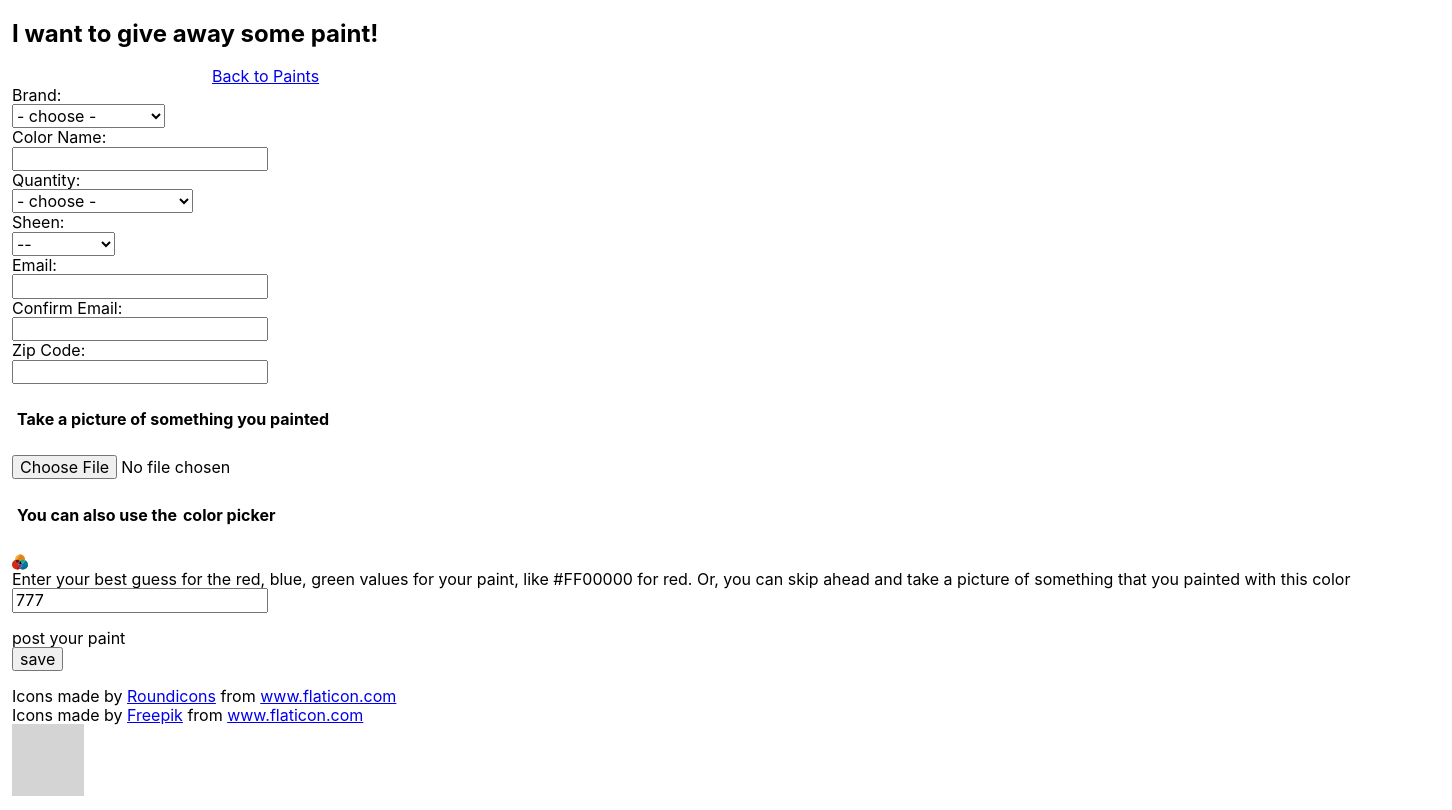
Test: GiveAwayPaint form › Error messages when a single field is missing › shows missing name Errors
Select "Behr" in the dropdown labelled "Brand:" at (88, 116), box [12,104,165,128]
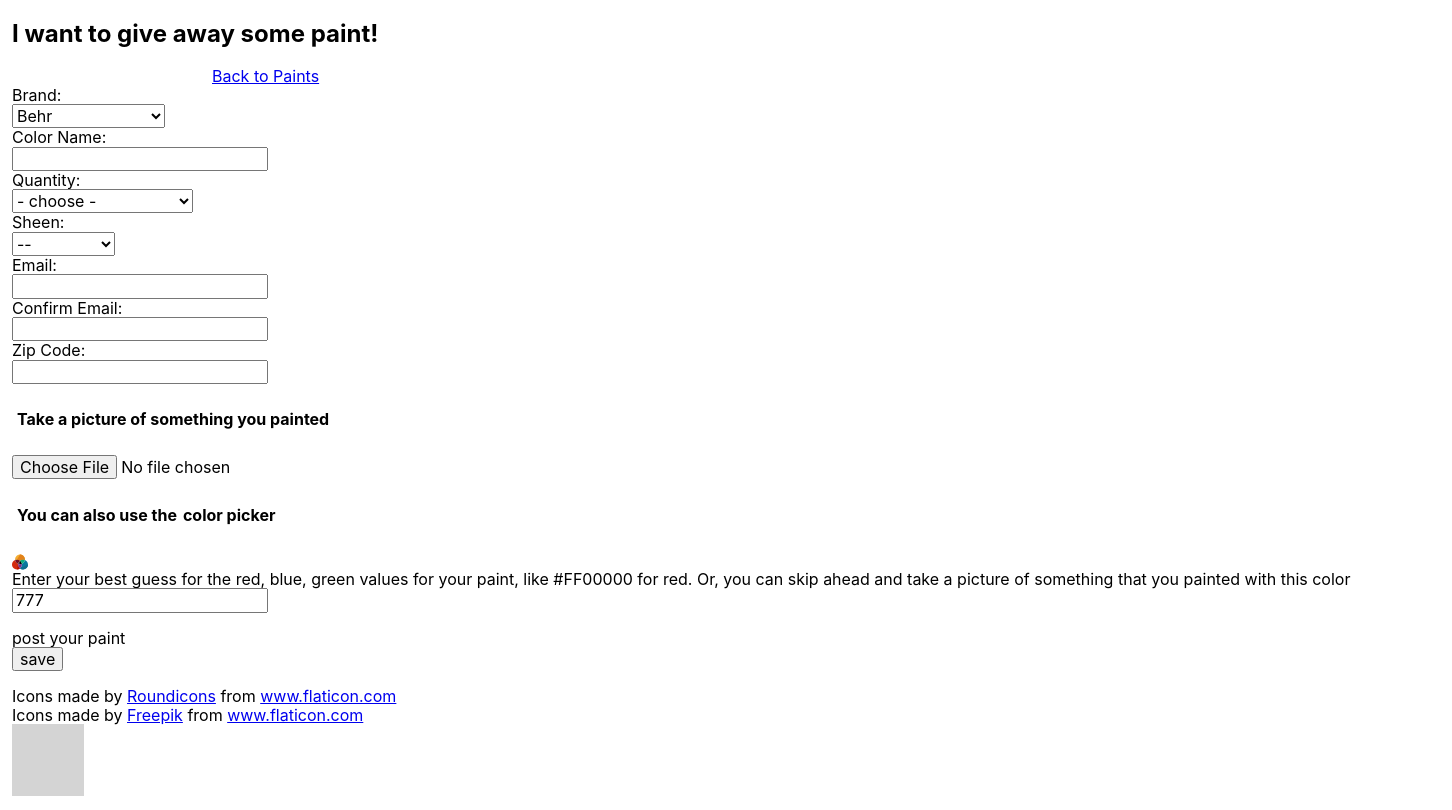
Select "less than a gallon" in the dropdown labelled "Quantity:" at (102, 201), box [12,189,193,213]
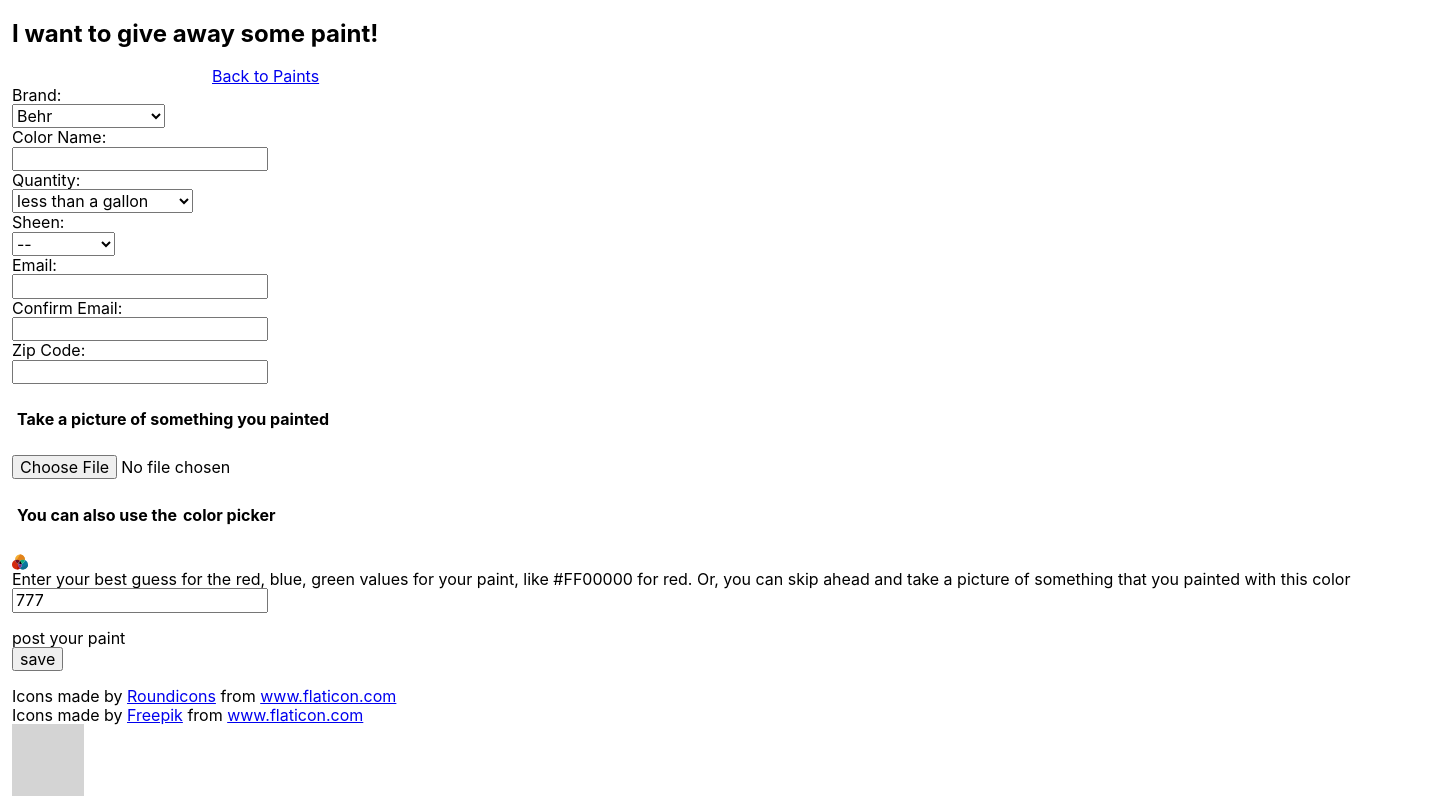
Type "someString" into the field labelled "Email:" at (140, 286), box [12,274,268,298]
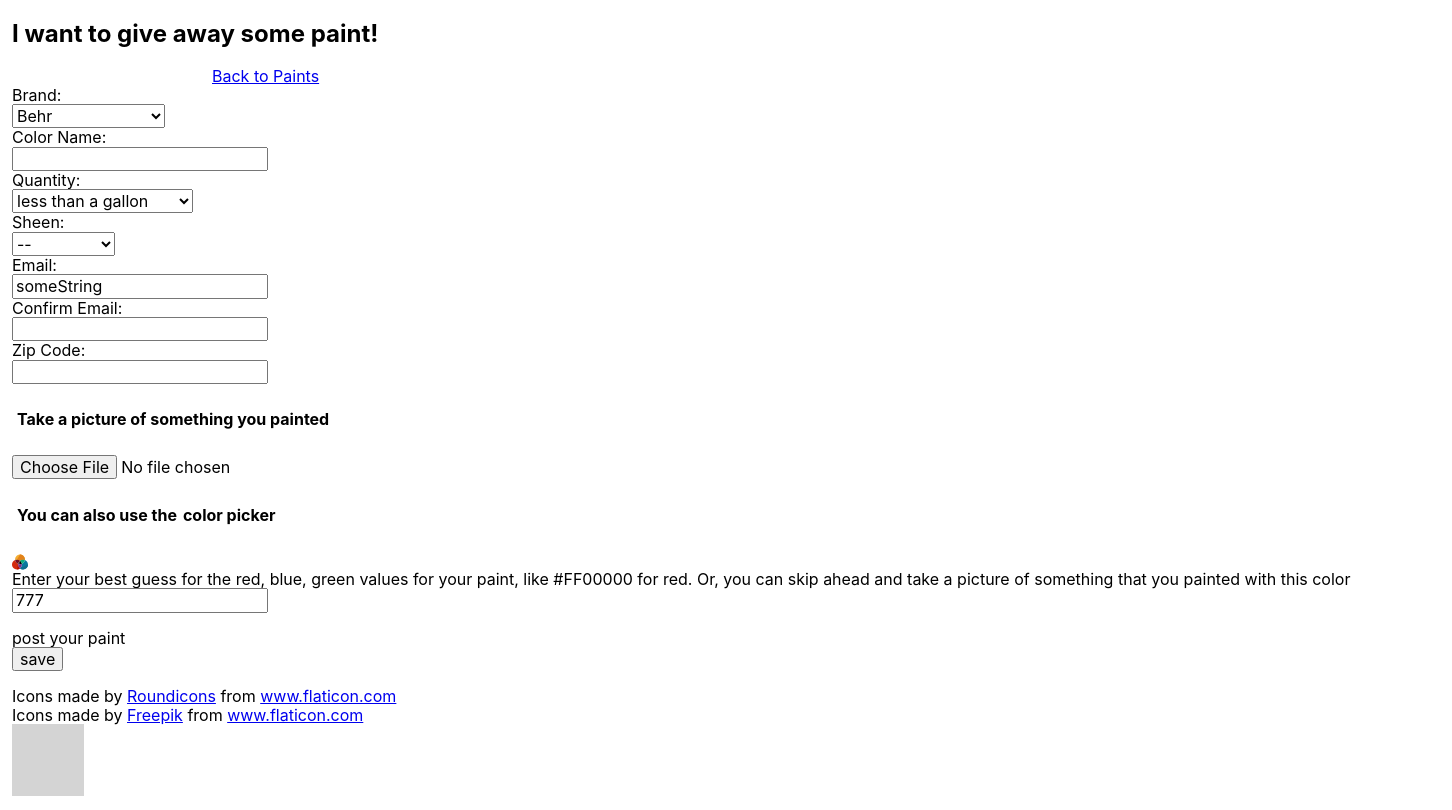
Type "someString" into the field labelled "Confirm Email:" at (140, 329), box [12,317,268,341]
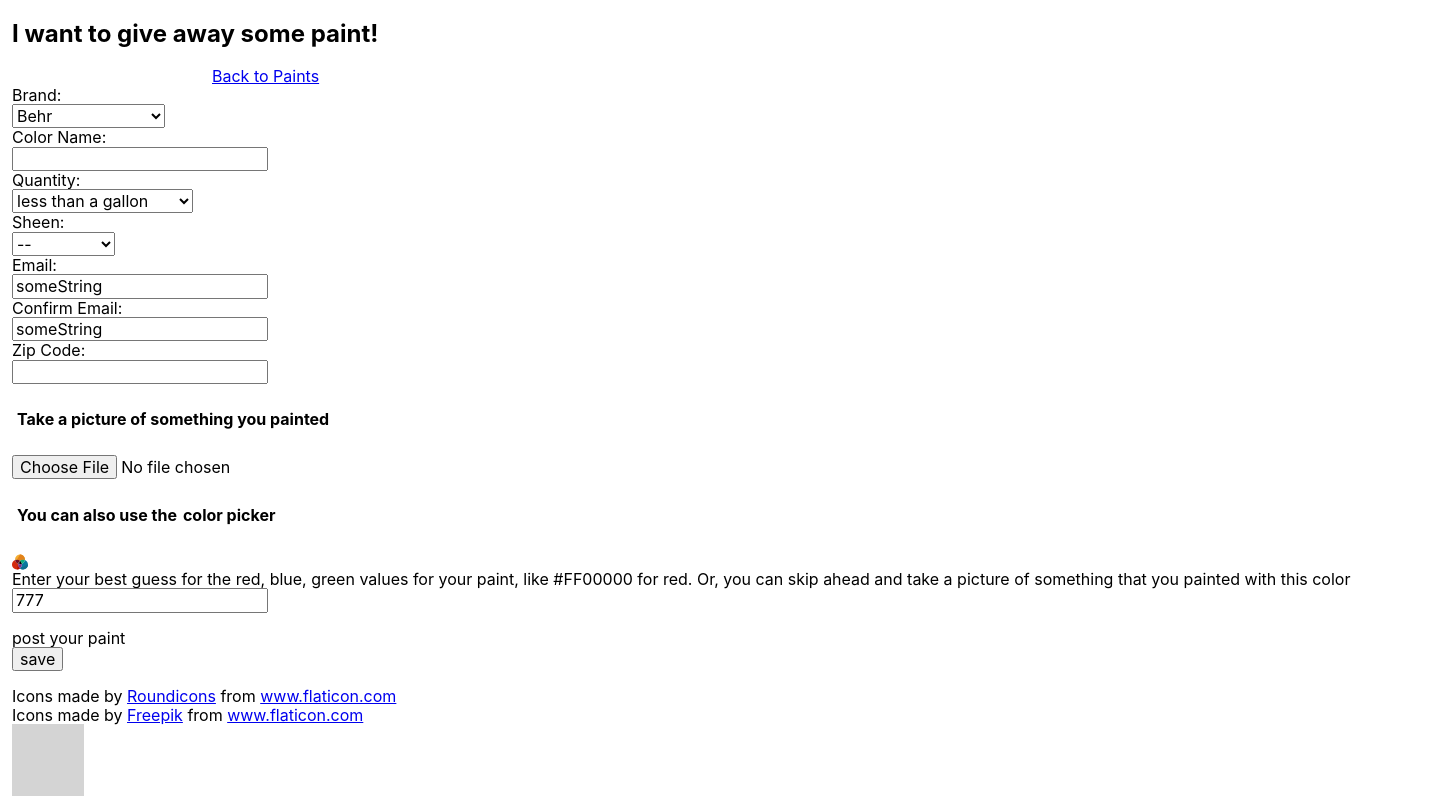
Type "99999" into the field labelled "Zip Code:" at (140, 372), box [12,360,268,384]
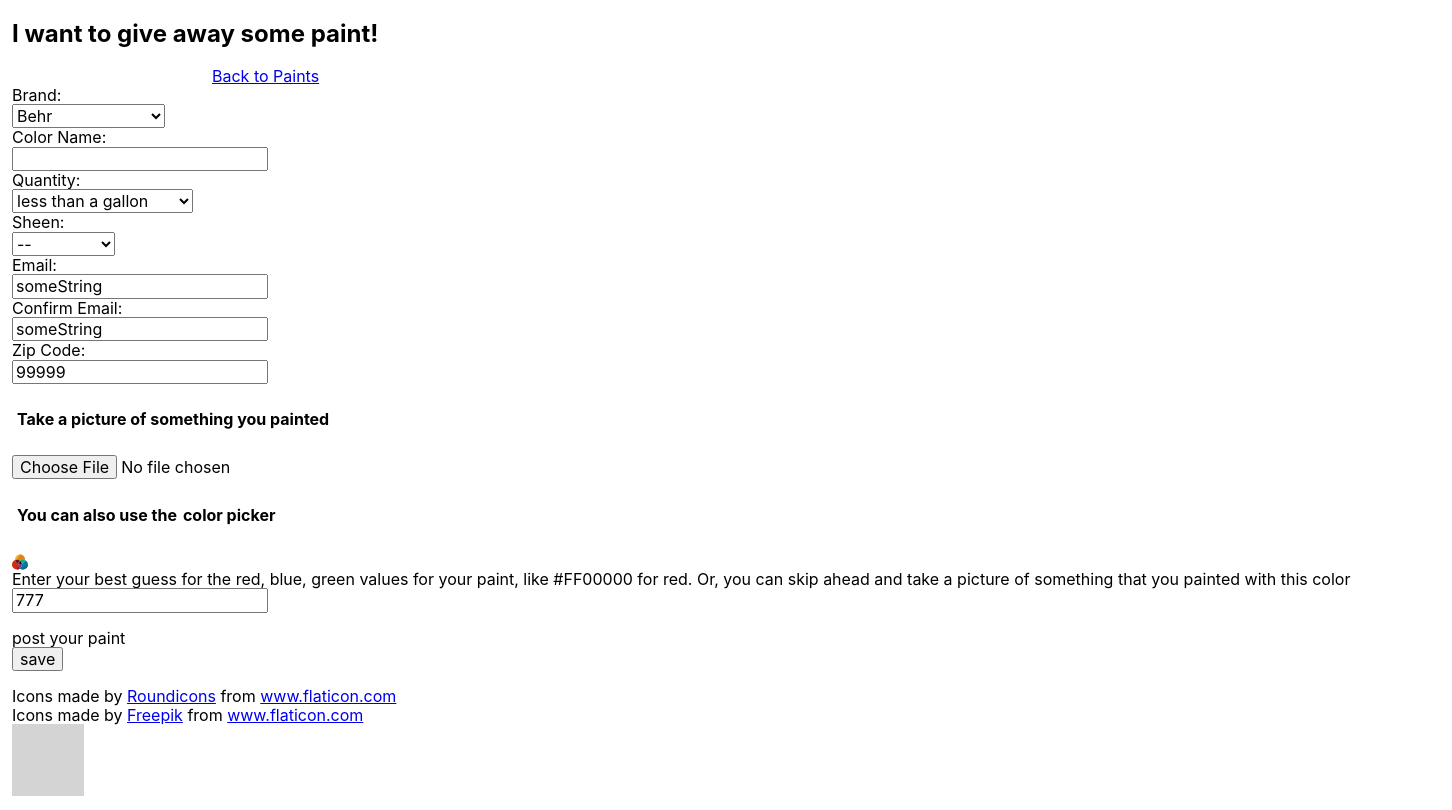
Submit the form
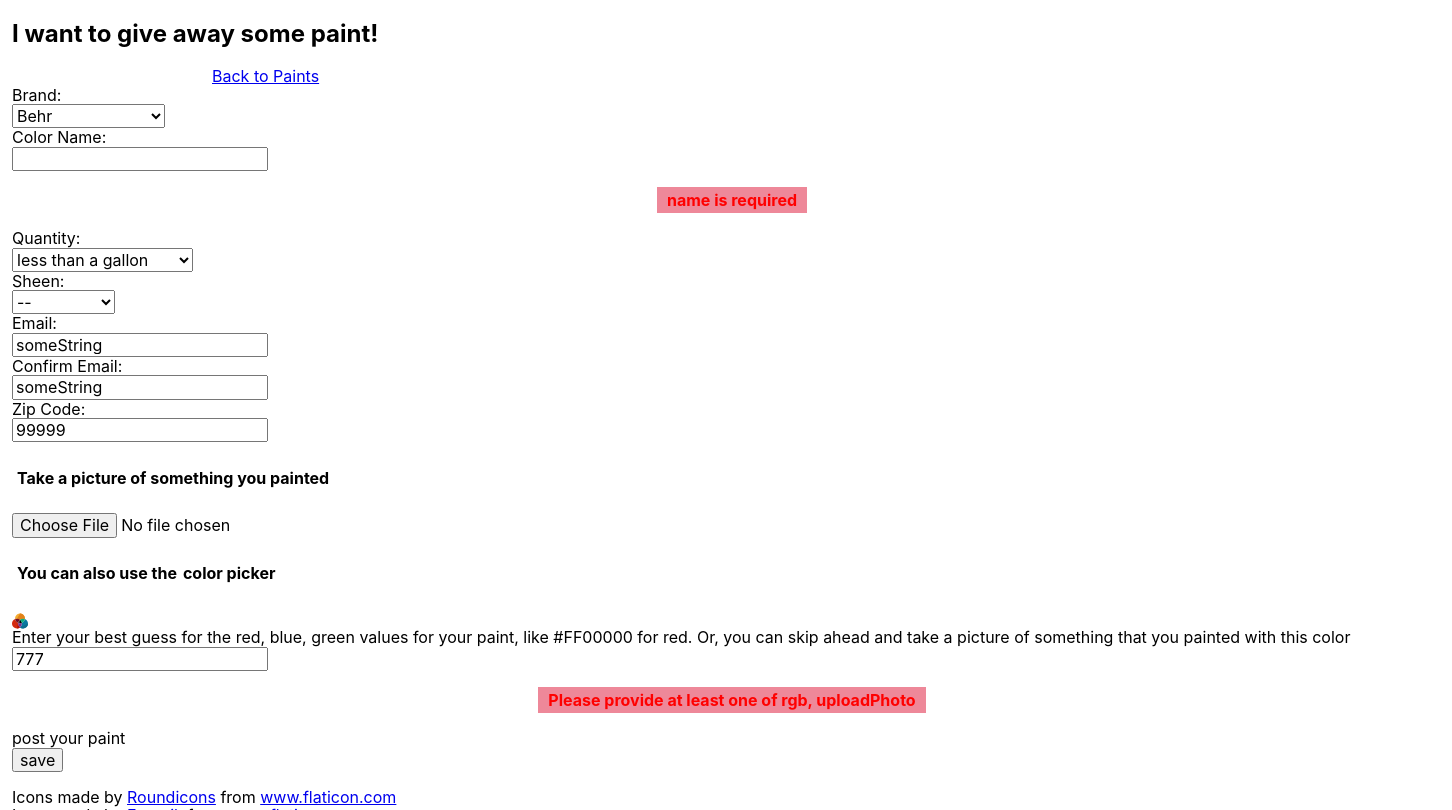
Expected: the text "name is required" is shown, [657,187,807,213]
